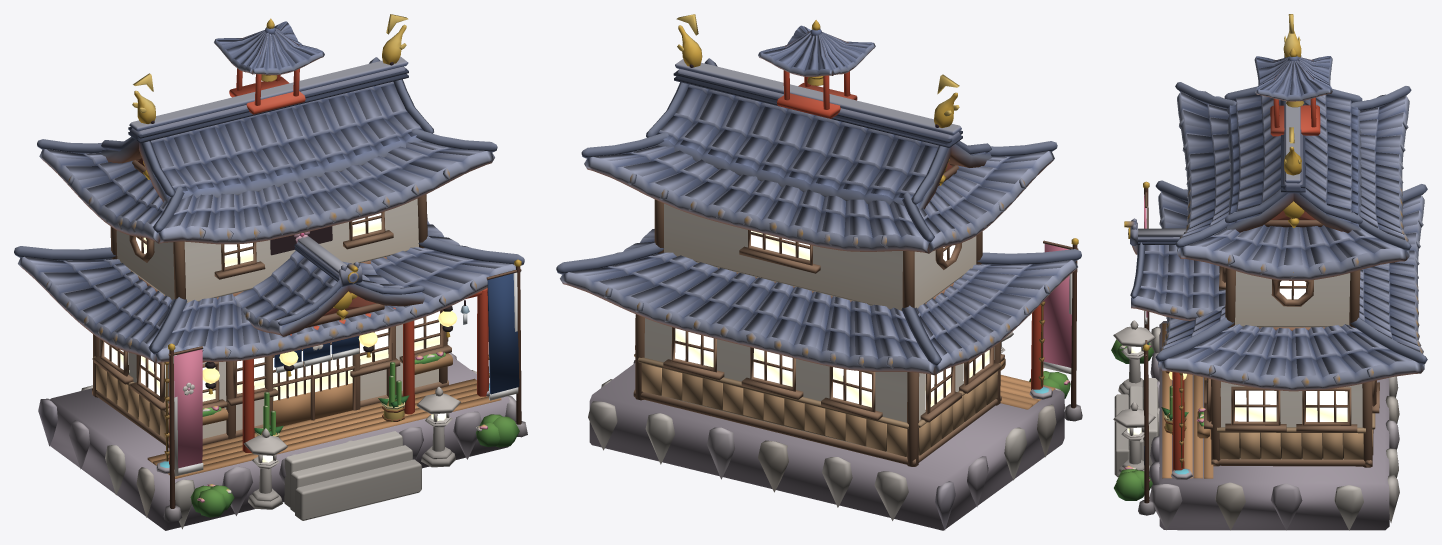
The model's file is townHall.glb.
3 renders of one model, left to right at view 1: azimuth 30°, elevation 25°; view 2: azimuth 150°, elevation 25°; view 3: azimuth 270°, elevation 25°, orthographic. The views are drawn at different scales.
Visible parts, largest first — view 1: townHall, window_glow; view 2: townHall, window_glow; view 3: townHall, window_glow.
Boxes of the visible parts, left/top/right/bottom form: townHall: left=14, top=14, right=527, bottom=530; window_glow: left=104, top=213, right=457, bottom=462; townHall: left=556, top=14, right=1082, bottom=530; window_glow: left=675, top=230, right=989, bottom=409; townHall: left=1111, top=14, right=1427, bottom=530; window_glow: left=1127, top=280, right=1347, bottom=434.
Bounding box in the file's own units: 5.86 × 6.28 × 4.47.
